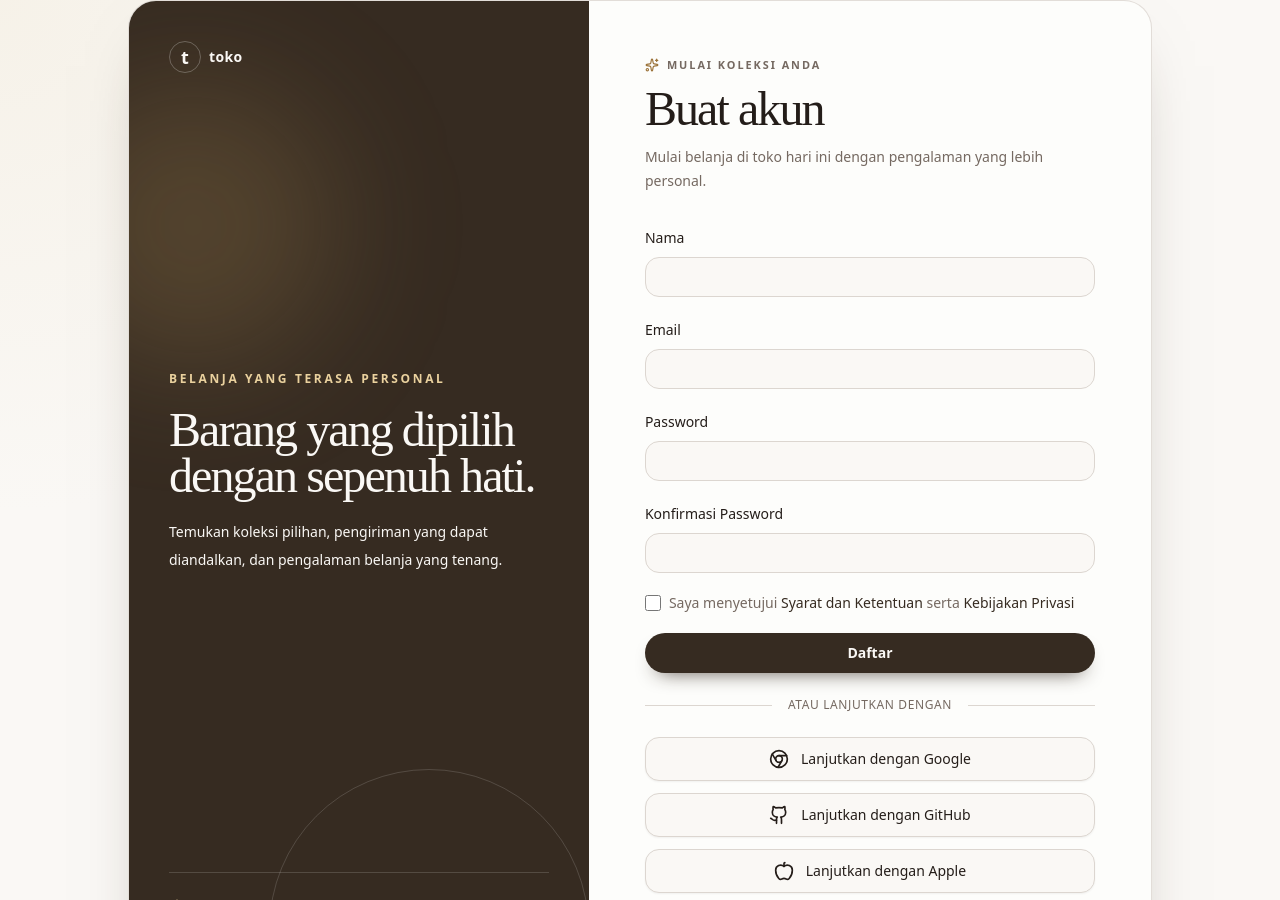
Test: RegisterPage › validates password confirmation match
Check: the heading "Buat akun" is shown, box [645,82,824,135]
Type "John Doe" into the field labelled "Nama" at (870, 277), box [645,257,1095,297]
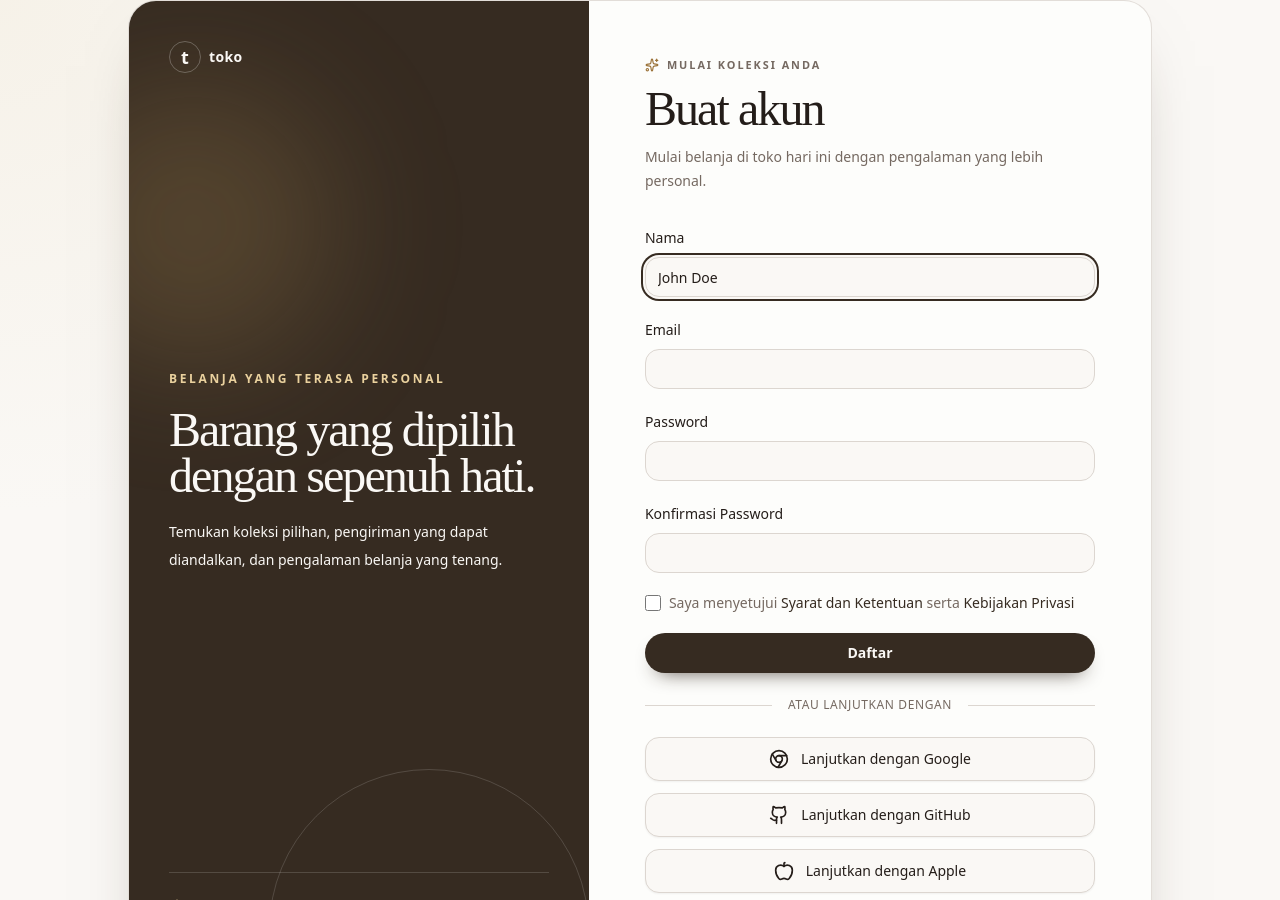
Type "john@example.com" into the field labelled "Email" at (870, 369), box [645,349,1095,389]
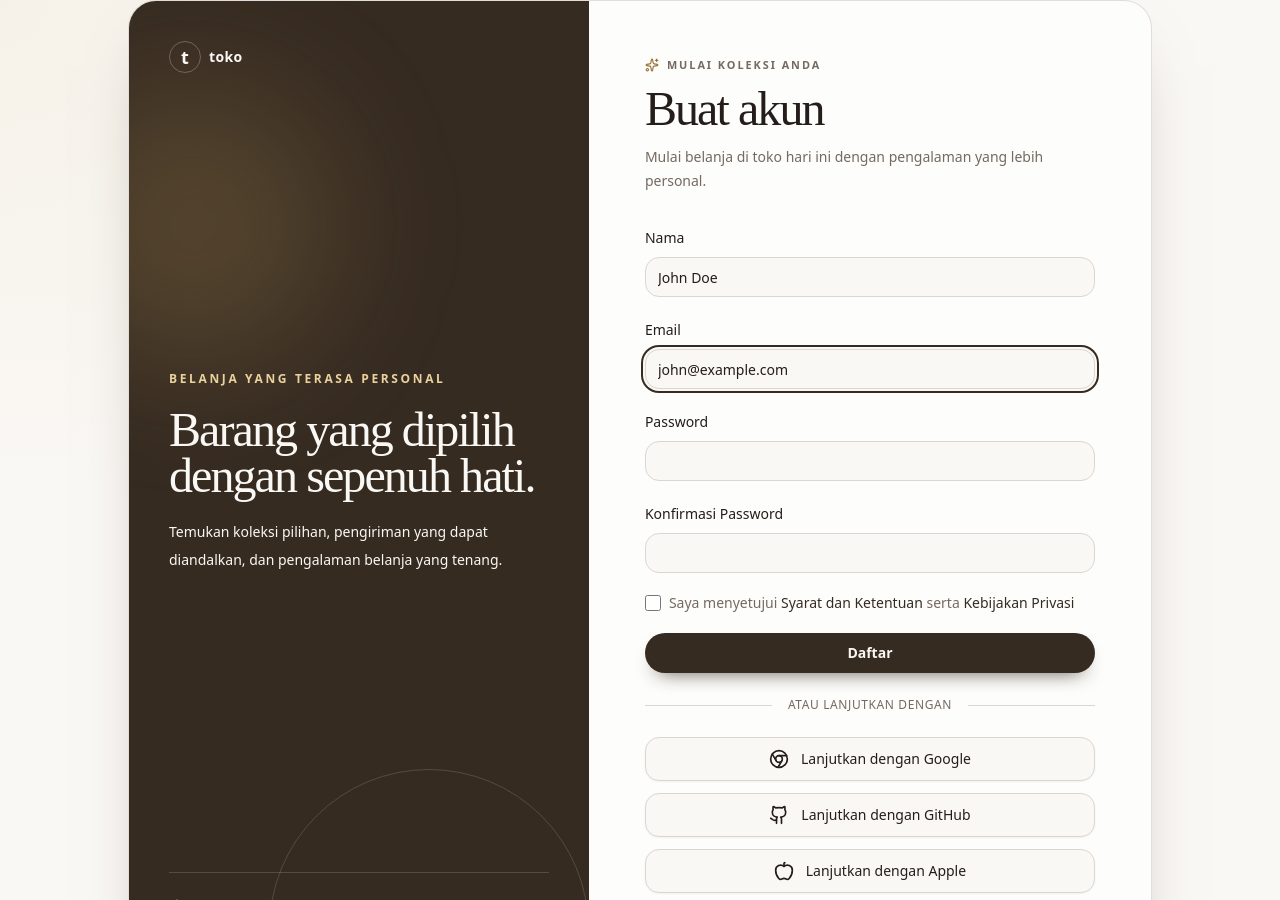
Type "SecurePass123" into the password field labelled "Password" at (870, 461), box [645,441,1095,481]
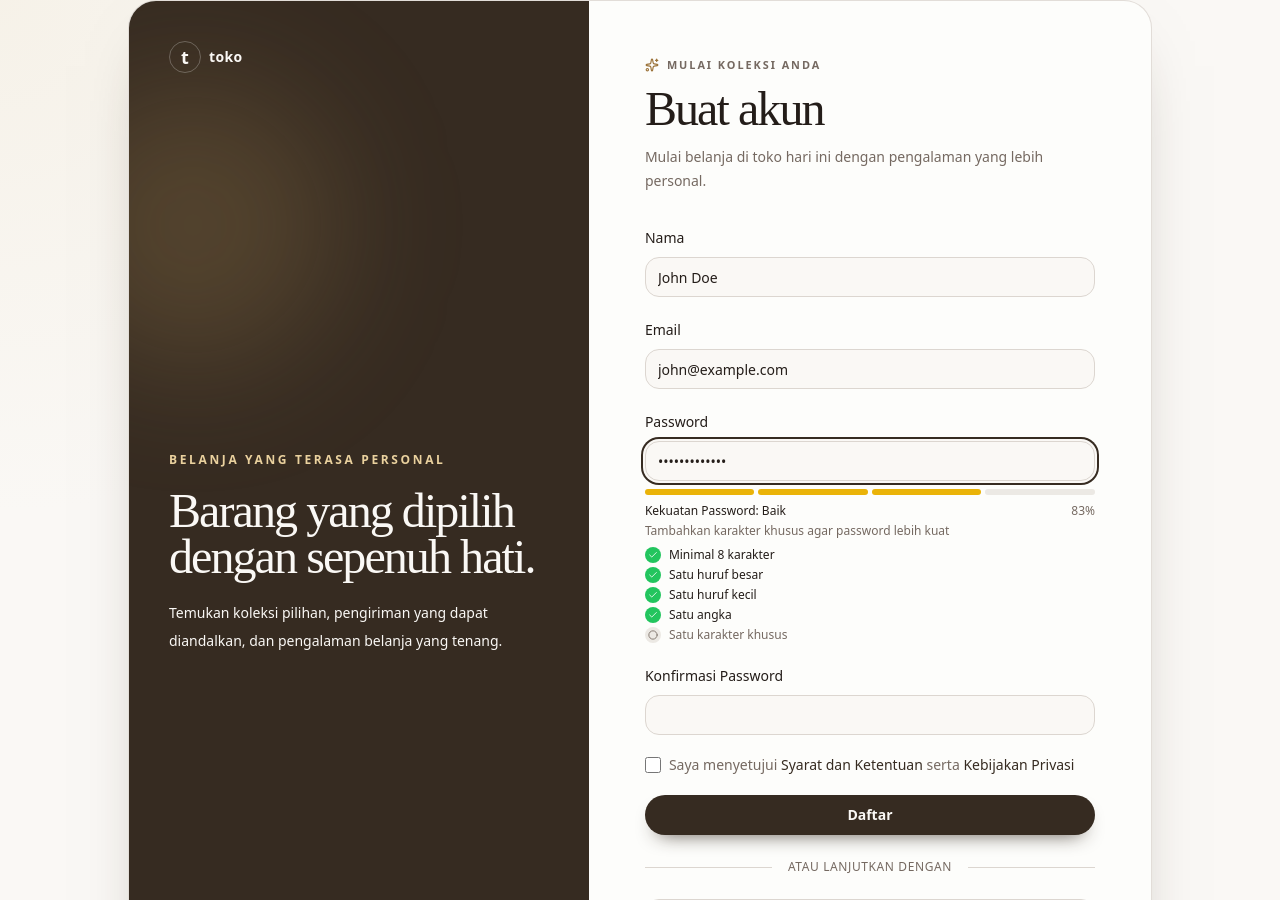
Type "DifferentPass123" into the password field labelled "Konfirmasi Password" at (870, 715), box [645,695,1095,735]
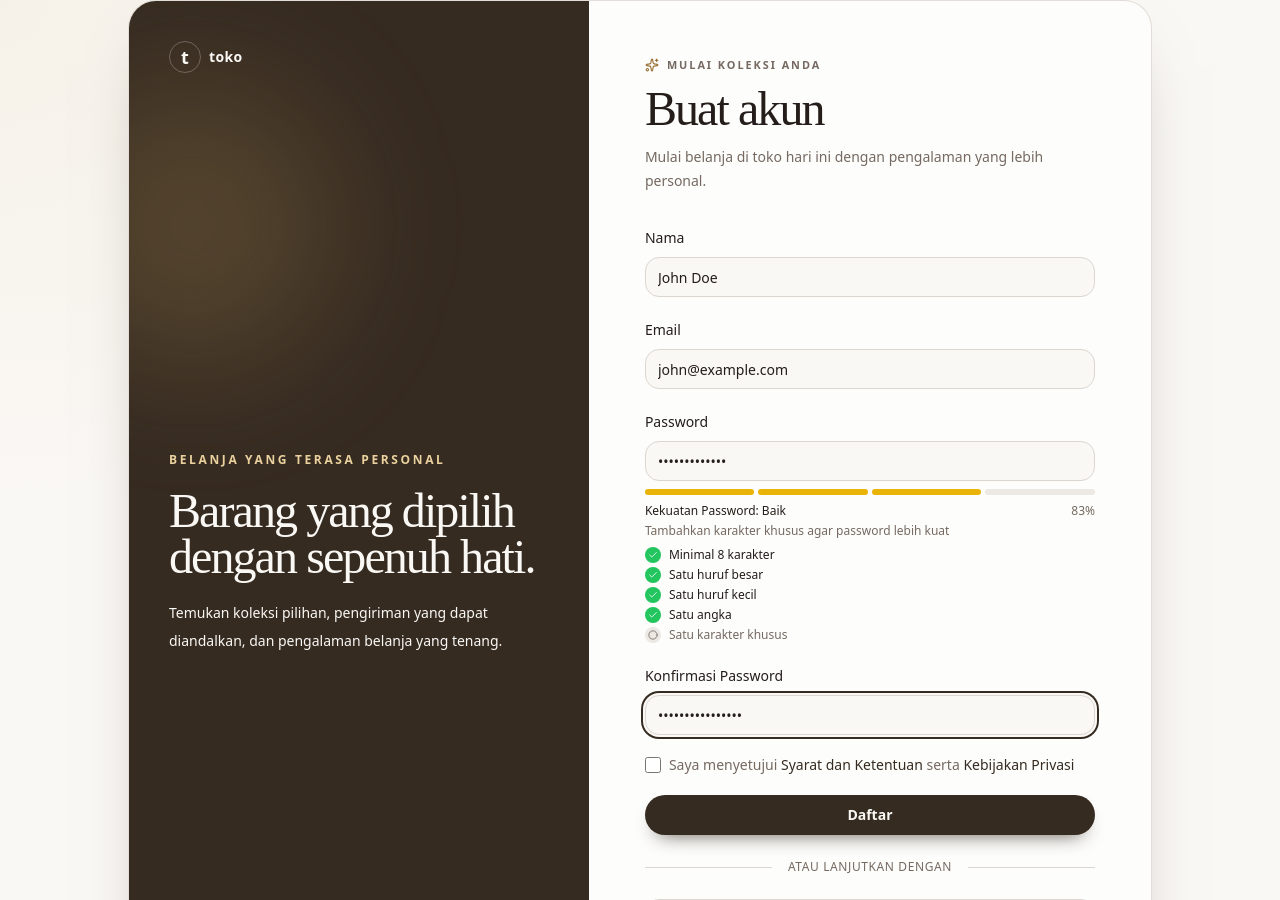
Click the checkbox at (653, 765), box [645,757,661,773]
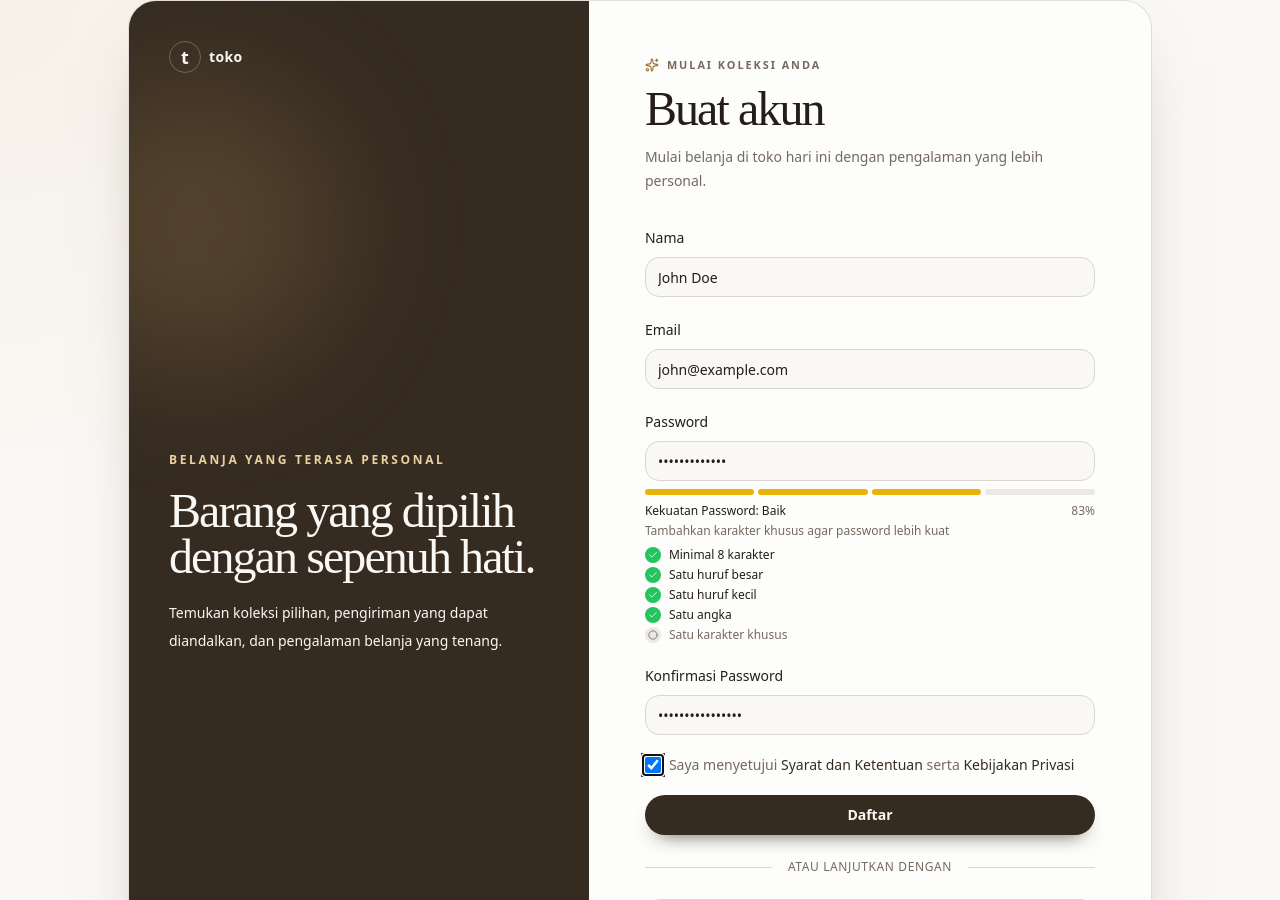
Click the button "Daftar" at (870, 815), box [645,795,1095,835]
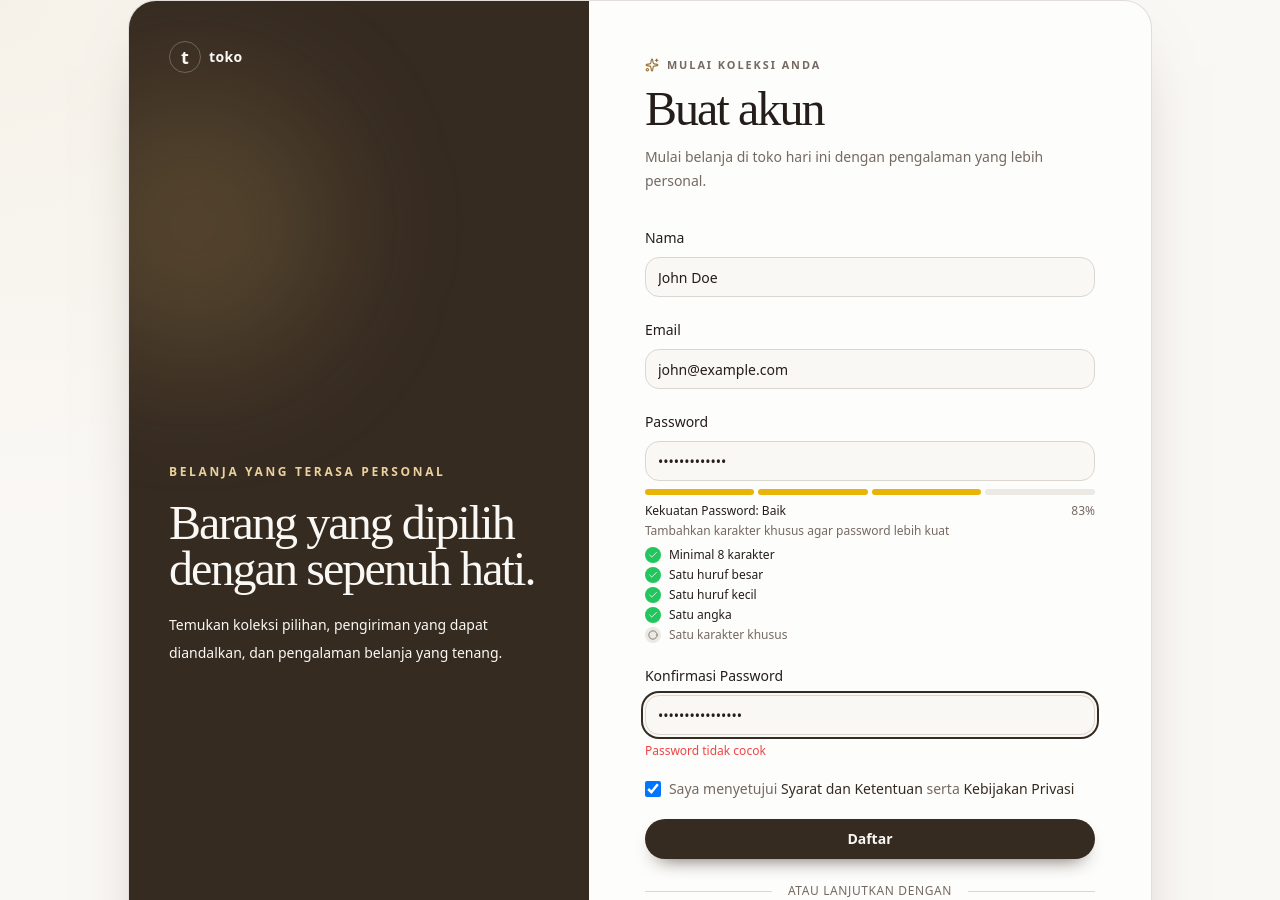
Check: the text "Password tidak cocok" is shown, box [645,742,766,759]
